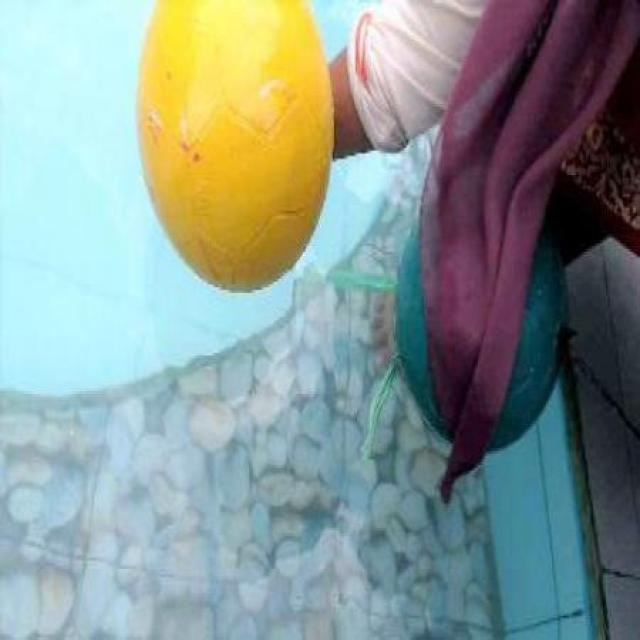buoy: (135, 0, 333, 290)
